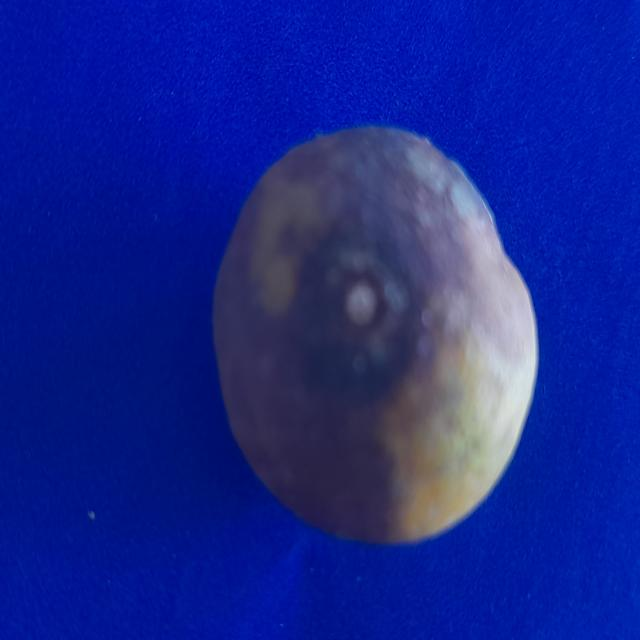black spot: (220, 123, 534, 540)
